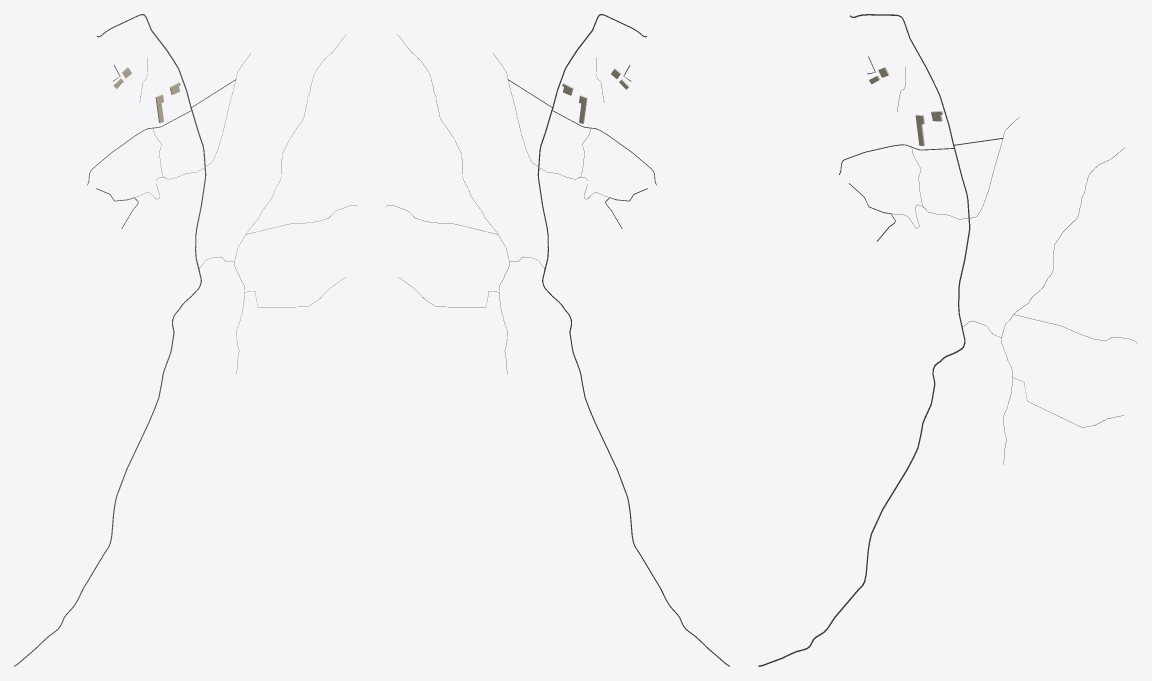
File: historic-palestine-16_38_3577_3325.glb
The picture shows the model from 3 angles, left to right: view 1: azimuth 30°, elevation 25°; view 2: azimuth 150°, elevation 25°; view 3: azimuth 330°, elevation 25°; orthographic projection. The views are drawn at different scales.
Parts seen in each view (by area): view 1: Road; view 2: Road; view 3: Road.
Boxes of the visible parts, bbox=[...] form: Road: bbox=[14, 14, 206, 666]; Road: bbox=[537, 14, 729, 666]; Road: bbox=[758, 14, 970, 666].
Size of the model in its own units: 1484 by 2563 by 8.7.
